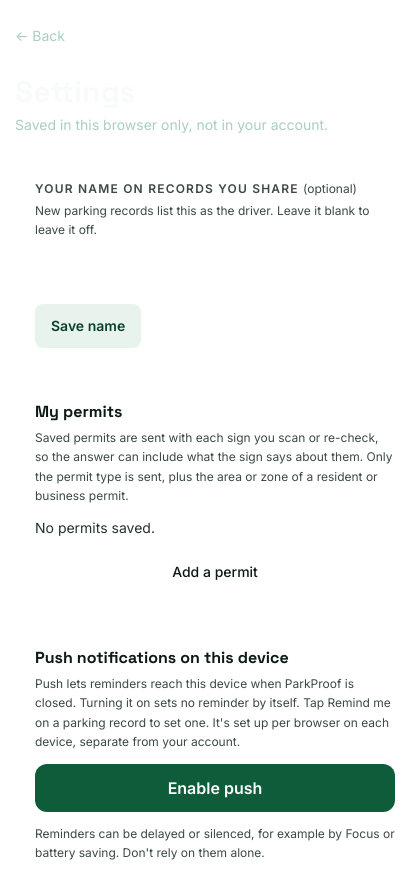
My permits › asks again after the form changes
Click the button "Add a permit" at (215, 572), box x1=35 y1=550 x2=395 y2=594
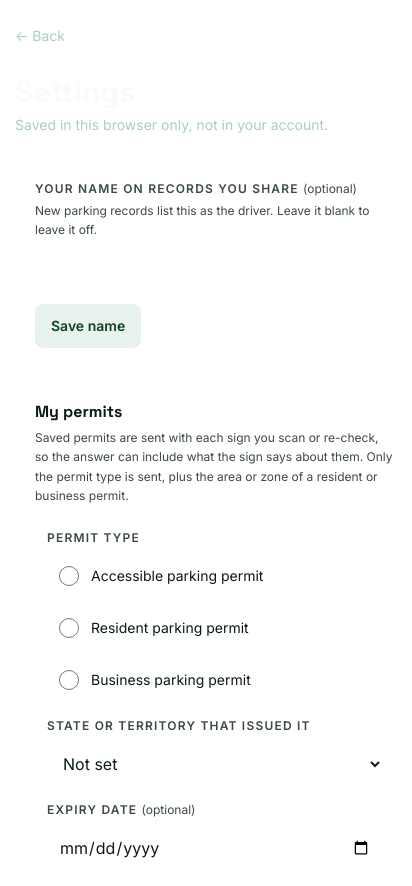
Click the radio button labelled "Accessible parking permit" at (69, 576), box x1=59 y1=566 x2=79 y2=586
(page scrolled)
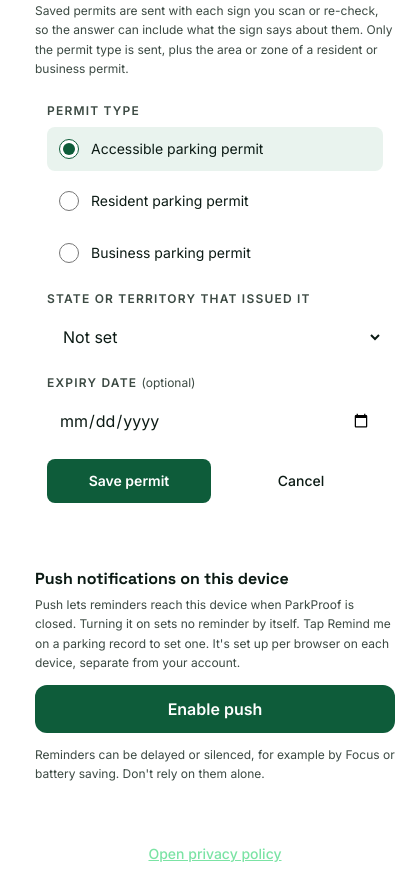
Click the button "Save permit" at (129, 481), box x1=47 y1=459 x2=211 y2=503
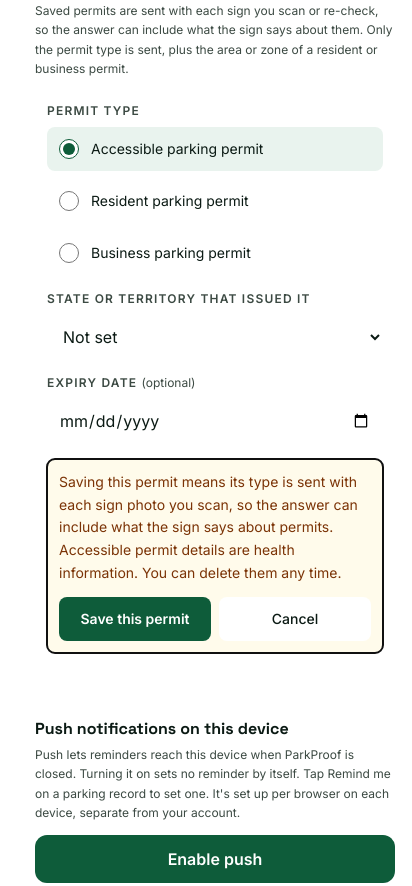
Expected: the text "Saving this permit means its type is sent with each sign photo you scan, so the answer can include what the sign says ab" is shown, x1=59 y1=473 x2=358 y2=581
Type "2099-01-01" into the date field labelled "Expiry date (optional)" at (215, 421), box x1=47 y1=399 x2=383 y2=443
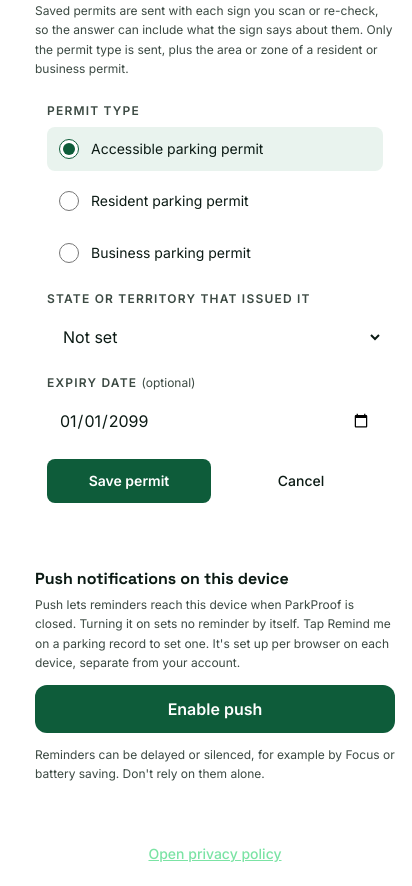
Expected: the text "Saving this permit means its type is sent with each sign photo you scan, so the answer can include what the sign says ab" is gone
Click the button "Save permit" at (129, 481), box x1=47 y1=459 x2=211 y2=503
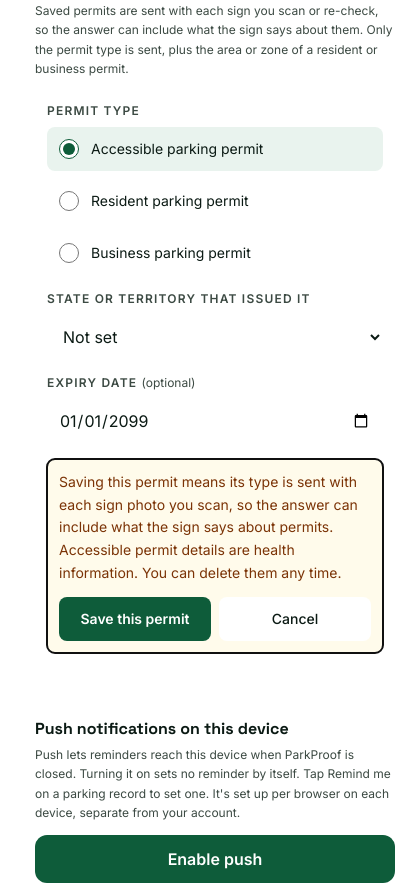
Expected: the text "Saving this permit means its type is sent with each sign photo you scan, so the answer can include what the sign says ab" is shown, x1=59 y1=473 x2=358 y2=581
